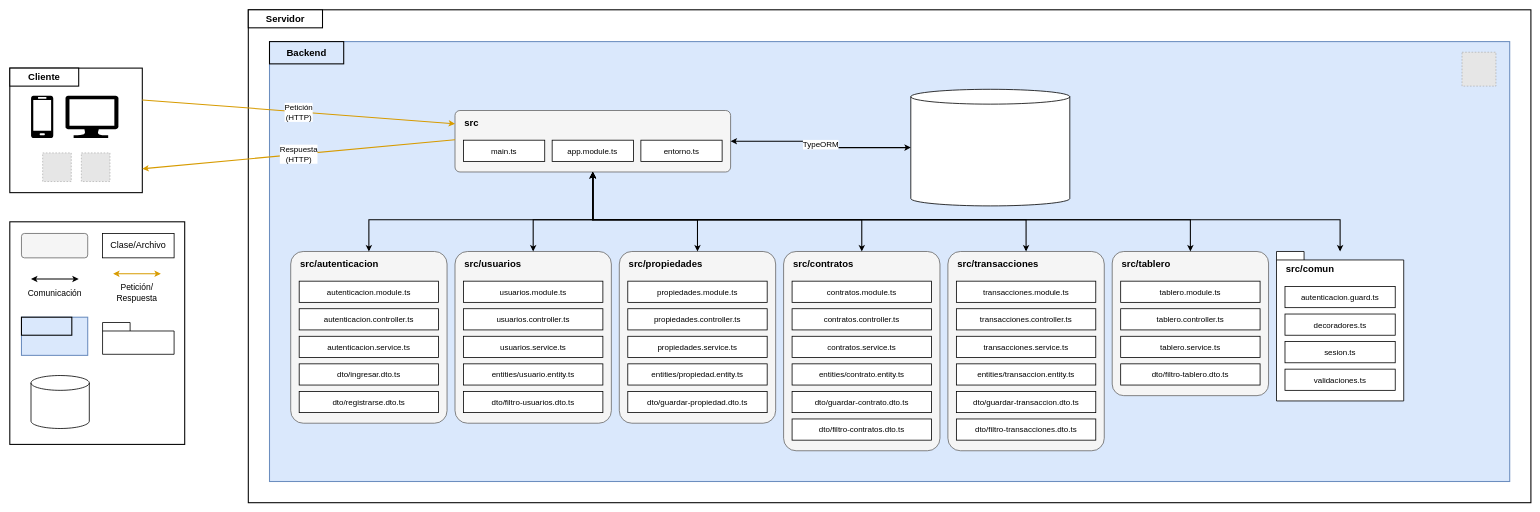
Image size: 1540x512. Some labels were removed from this diagram. Grey dashed boxes stand in for pictures. The centre of each missing label's shape, as x and y in pixels:
"Base de datos" goes at [59,402].
"Módulo" goes at [54,245].
"paquete" goes at [138,338].
"Proyecto" goes at [46,325].
"SQLite database.sqlite usuario · propiedad contrato · transaccion" goes at [990,147].
